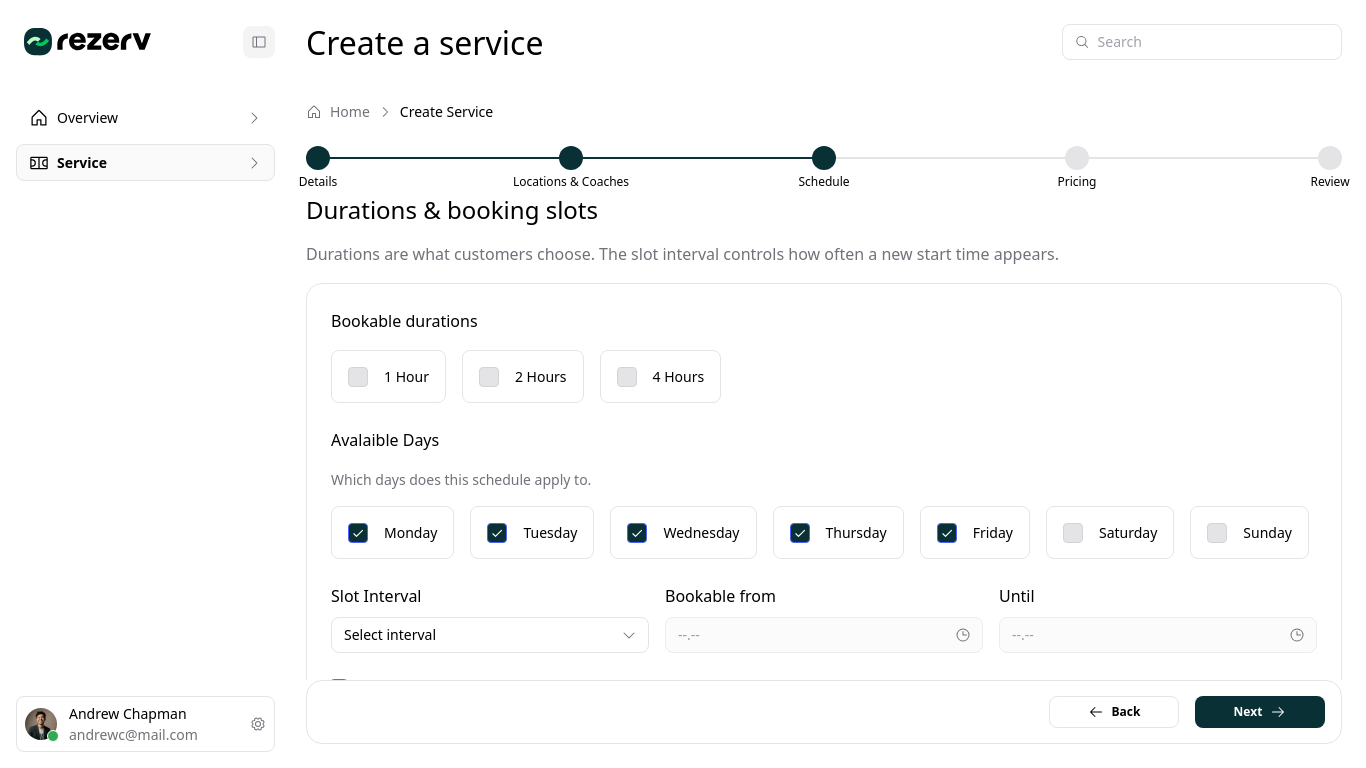
warns when every day has been switched off
Check: the text "Pick at least one day" is not shown
Click the checkbox labelled "Monday" at (393, 532), box [331,506,454,559]
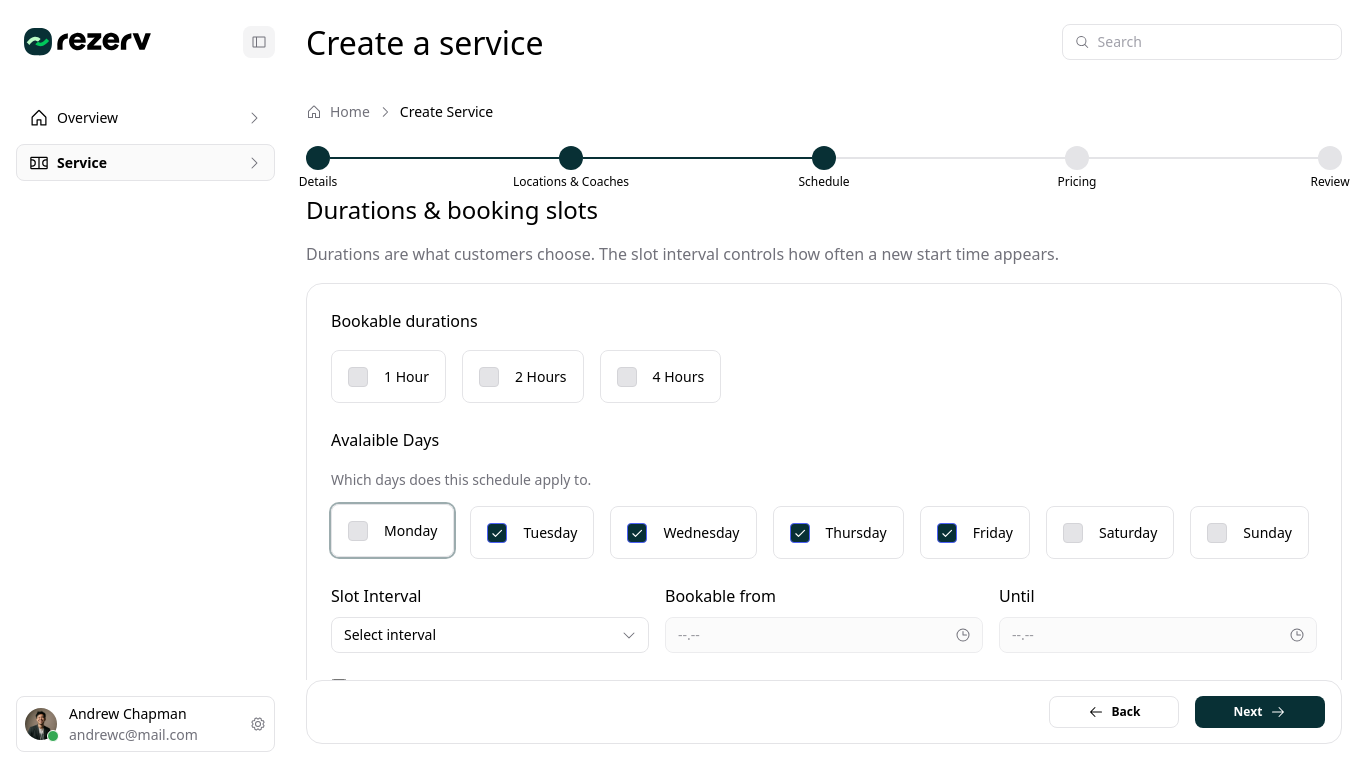
Click the checkbox labelled "Tuesday" at (532, 532), box [470,506,594,559]
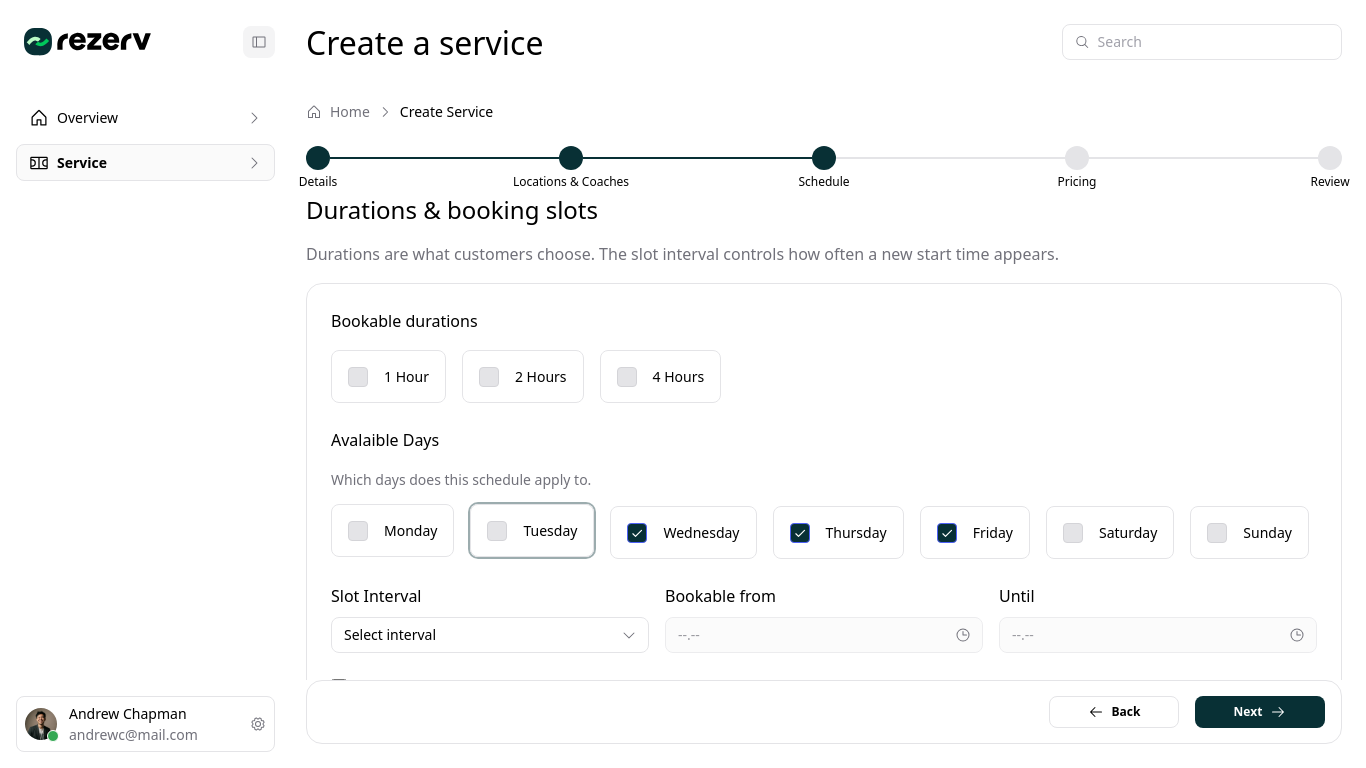
Click the checkbox labelled "Wednesday" at (683, 532), box [610,506,756,559]
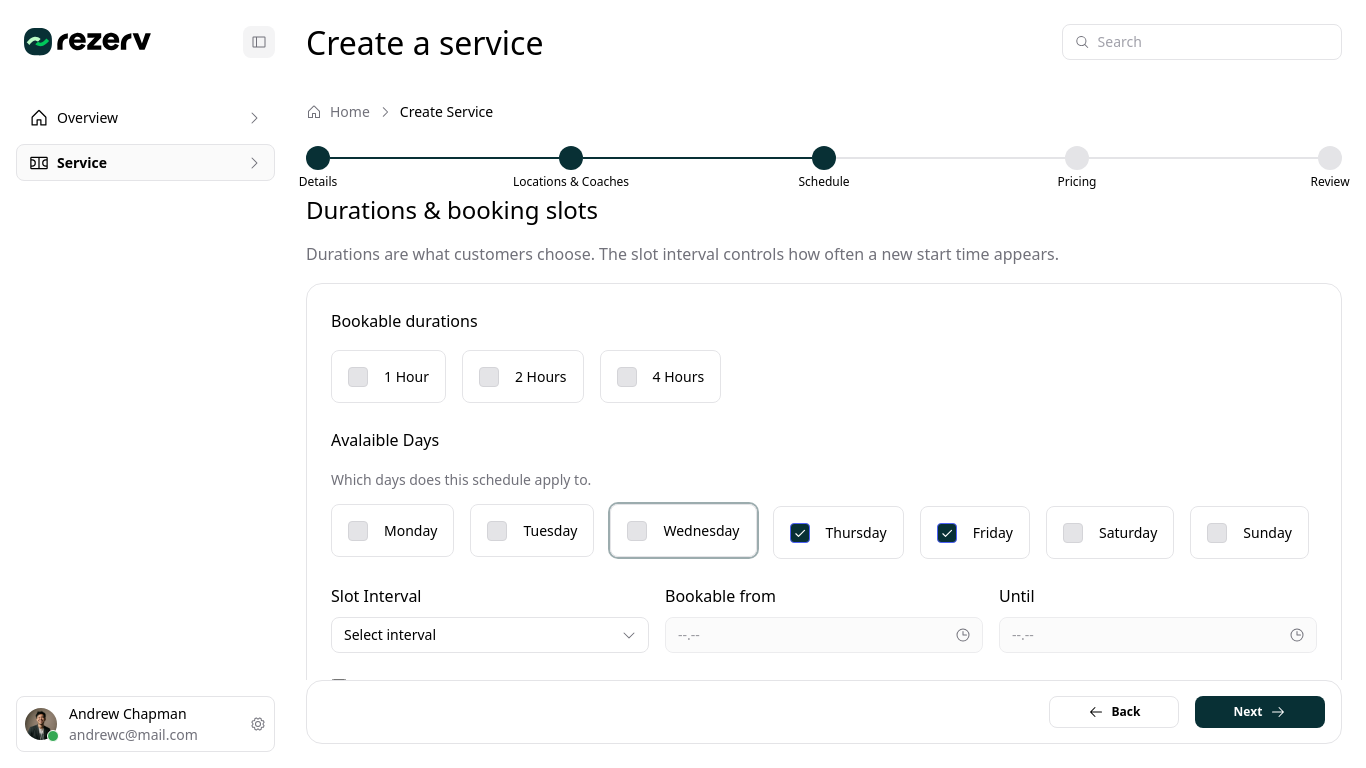
Click the checkbox labelled "Thursday" at (838, 532), box [772,506,904,559]
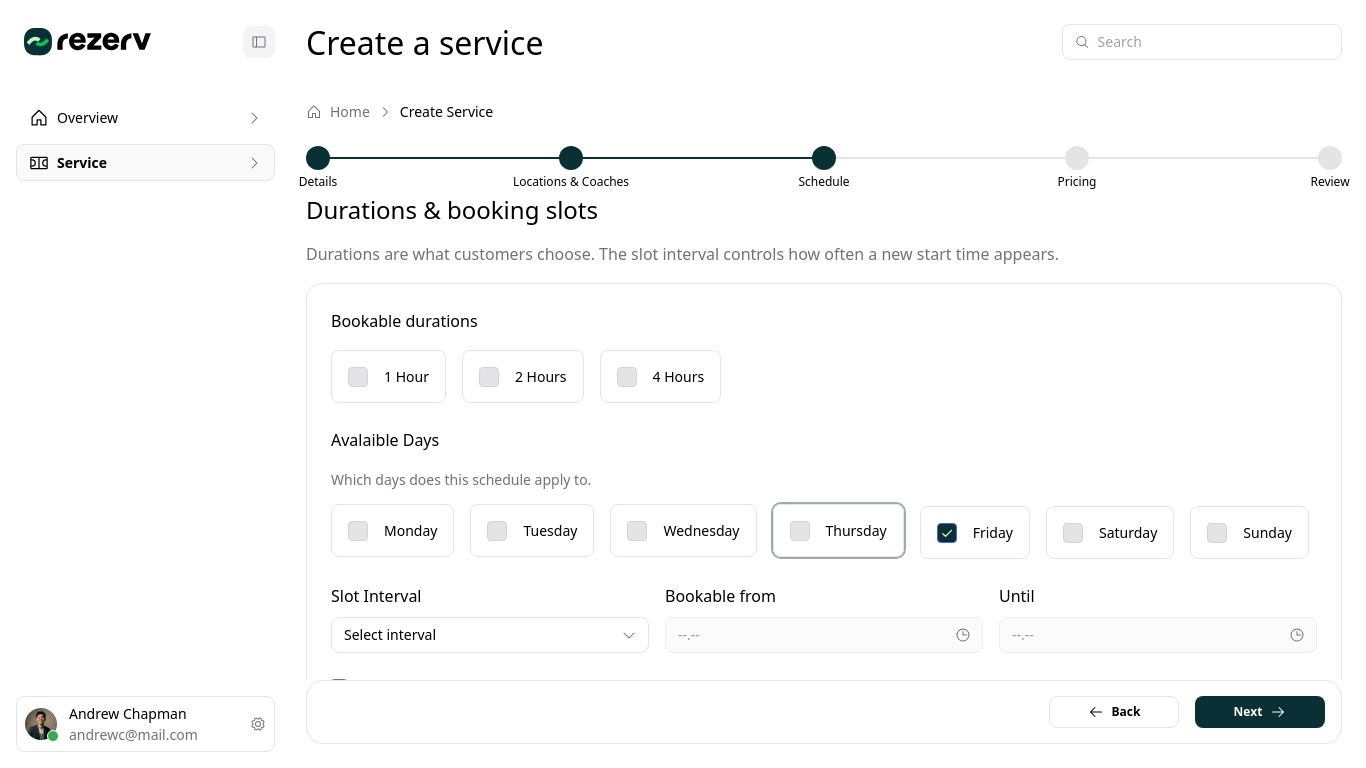
Click the checkbox labelled "Friday" at (975, 532), box [920,506,1030,559]
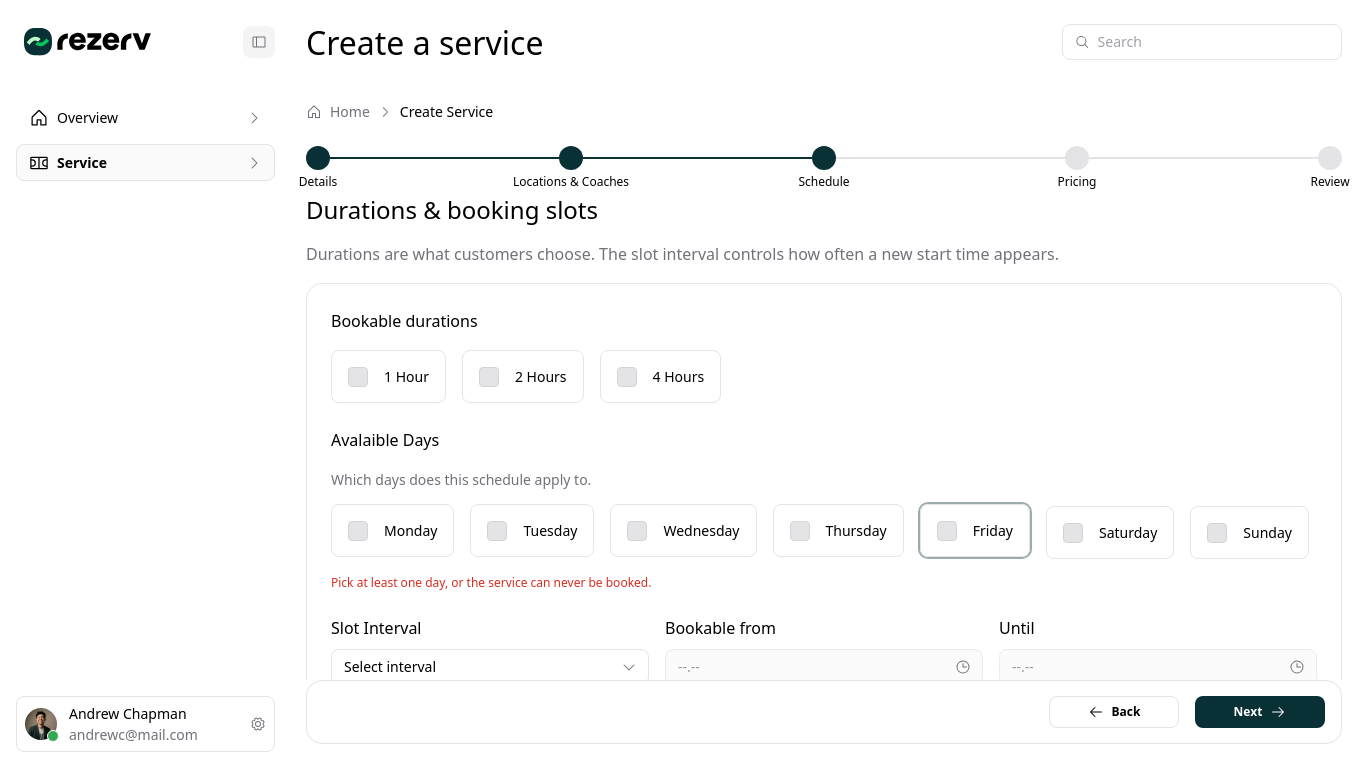
Check: the text "Pick at least one day, or the service can never be booked." is shown, box [331,574,651,591]
